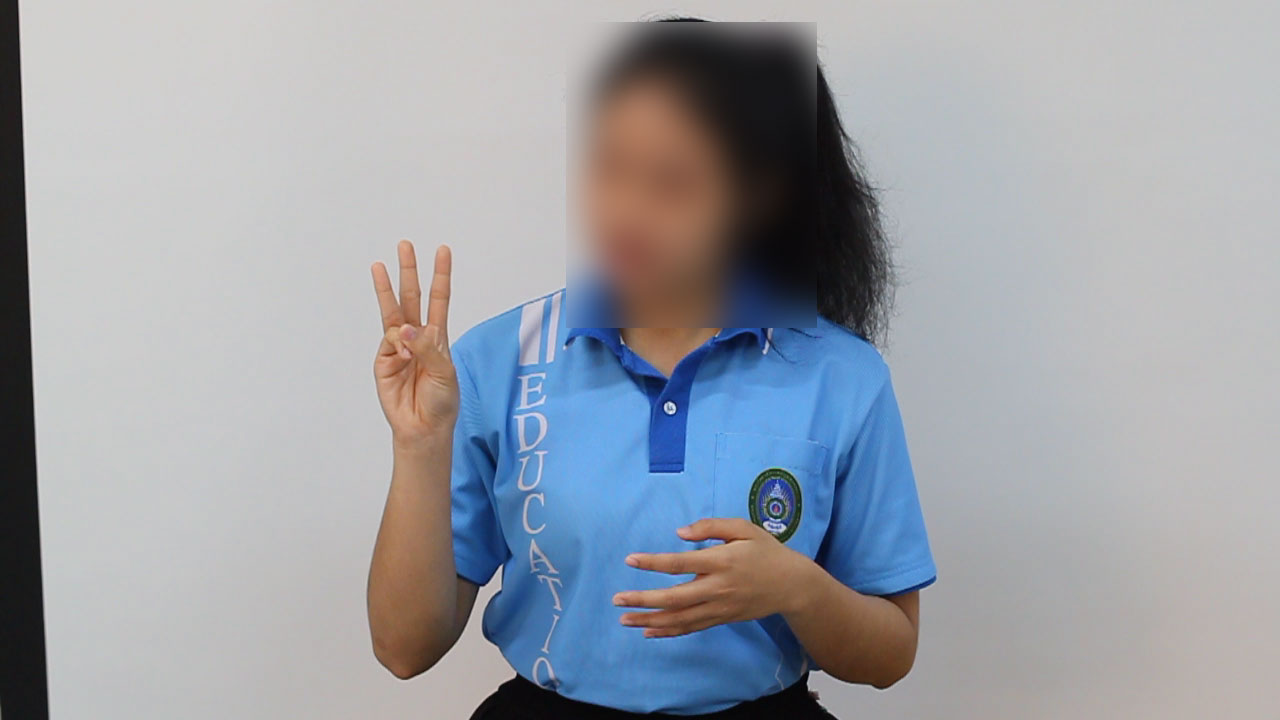wor: (360, 231, 464, 449)
